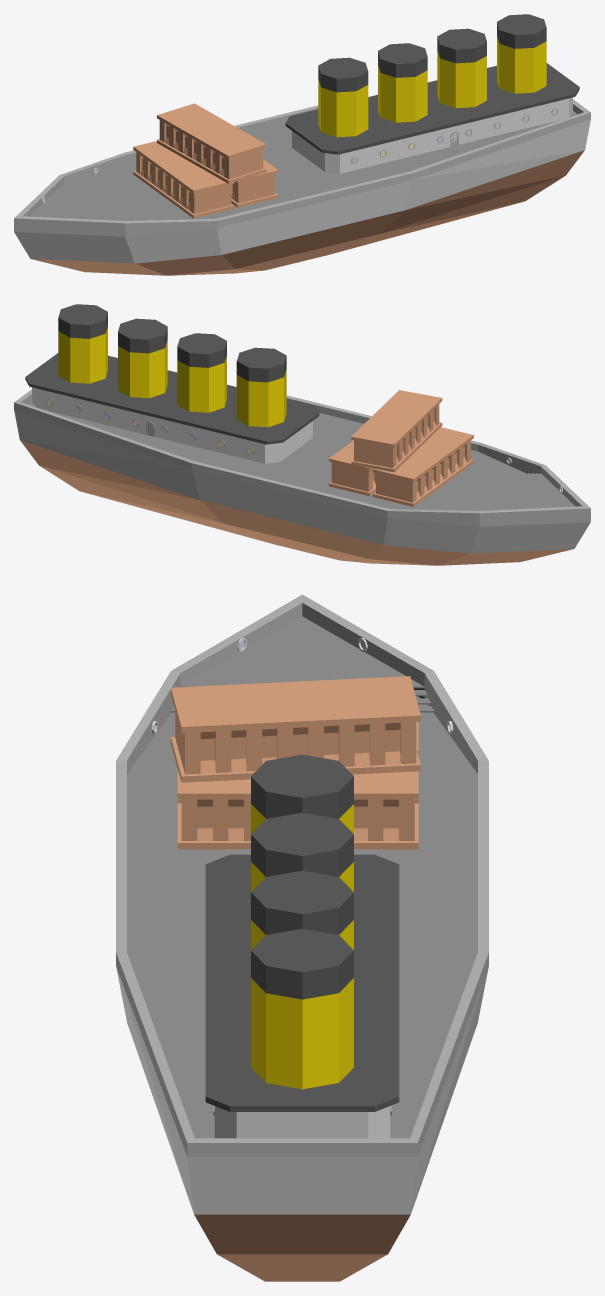
Rendered from Ship.fbx.
3 views of the same model, one above another, from view 1: azimuth 30°, elevation 25°; view 2: azimuth 150°, elevation 25°; view 3: azimuth 270°, elevation 25° (orthographic). The views are drawn at different scales.
Parts seen in each view (by area): view 1: Ship; view 2: Ship; view 3: Ship.
Part boxes in pixels (left/top/right/bottom): Ship: left=14, top=14, right=590, bottom=275; Ship: left=14, top=304, right=590, bottom=565; Ship: left=116, top=594, right=488, bottom=1281.
Bounding box in the file's own units: 100 × 29.41 × 29.53.
